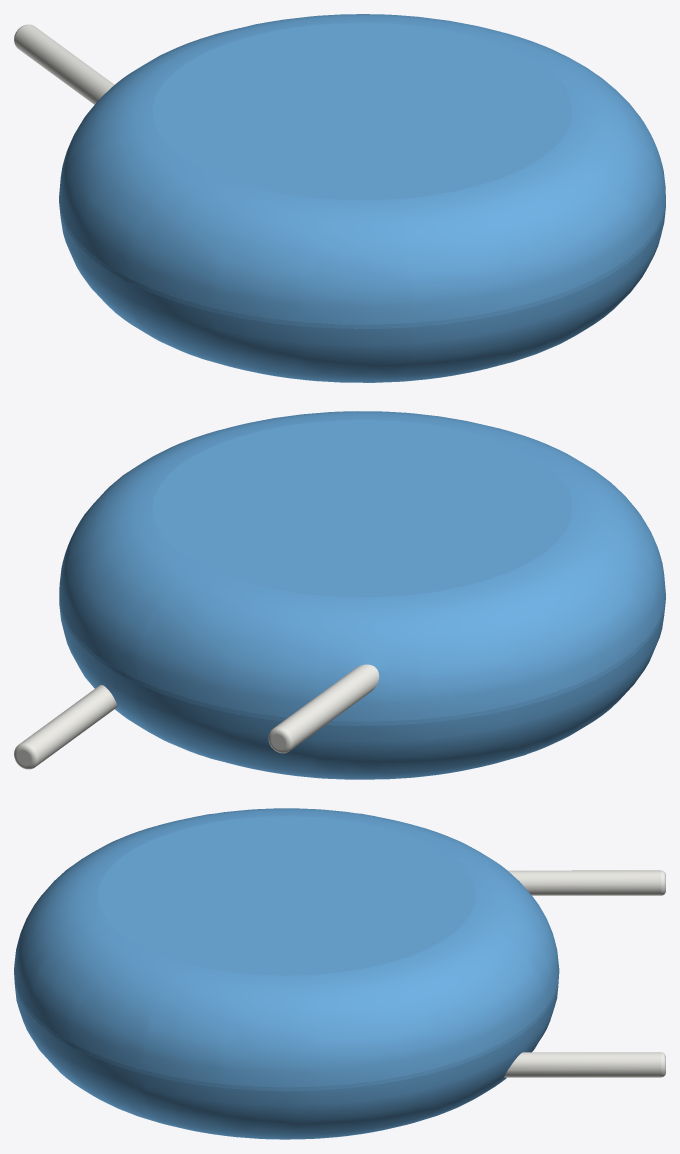
File: RV_Disc_D15.5mm_W4.9mm_P7.5mm.glb
The picture shows the model from 3 angles, top to bottom: view 1: azimuth 30°, elevation 25°; view 2: azimuth 150°, elevation 25°; view 3: azimuth 270°, elevation 25°; orthographic projection. The views are drawn at different scales.
Visible parts, largest first — view 1: Shape_IndexedFaceSet.001, Shape_IndexedFaceSet.003, Shape_IndexedFaceSet.002, Shape_IndexedFaceSet.004, Shape_IndexedFaceSet; view 2: Shape_IndexedFaceSet.001, Shape_IndexedFaceSet.003, Shape_IndexedFaceSet.002, Shape_IndexedFaceSet.004, Shape_IndexedFaceSet, Shape_IndexedFaceSet.006; view 3: Shape_IndexedFaceSet.001, Shape_IndexedFaceSet.003, Shape_IndexedFaceSet.002, Shape_IndexedFaceSet.006, Shape_IndexedFaceSet.004, Shape_IndexedFaceSet.
Boxes of the visible parts, bbox=[...] form: Shape_IndexedFaceSet.001: bbox=[59, 14, 665, 324]; Shape_IndexedFaceSet.003: bbox=[152, 23, 572, 200]; Shape_IndexedFaceSet.002: bbox=[59, 205, 665, 382]; Shape_IndexedFaceSet.004: bbox=[14, 25, 114, 104]; Shape_IndexedFaceSet: bbox=[59, 199, 665, 328]; Shape_IndexedFaceSet.001: bbox=[59, 411, 665, 721]; Shape_IndexedFaceSet.003: bbox=[152, 420, 572, 597]; Shape_IndexedFaceSet.002: bbox=[59, 602, 665, 779]; Shape_IndexedFaceSet.004: bbox=[275, 664, 379, 749]; Shape_IndexedFaceSet: bbox=[59, 596, 665, 725]; Shape_IndexedFaceSet.006: bbox=[20, 685, 116, 765]; Shape_IndexedFaceSet.001: bbox=[14, 808, 559, 1087]; Shape_IndexedFaceSet.003: bbox=[98, 816, 474, 975]; Shape_IndexedFaceSet.002: bbox=[15, 986, 558, 1139]; Shape_IndexedFaceSet.006: bbox=[504, 1052, 660, 1077]; Shape_IndexedFaceSet.004: bbox=[508, 870, 660, 895]; Shape_IndexedFaceSet: bbox=[14, 970, 559, 1091].
Bounding box in the file's own units: 6.1 × 1.93 × 7.29.
